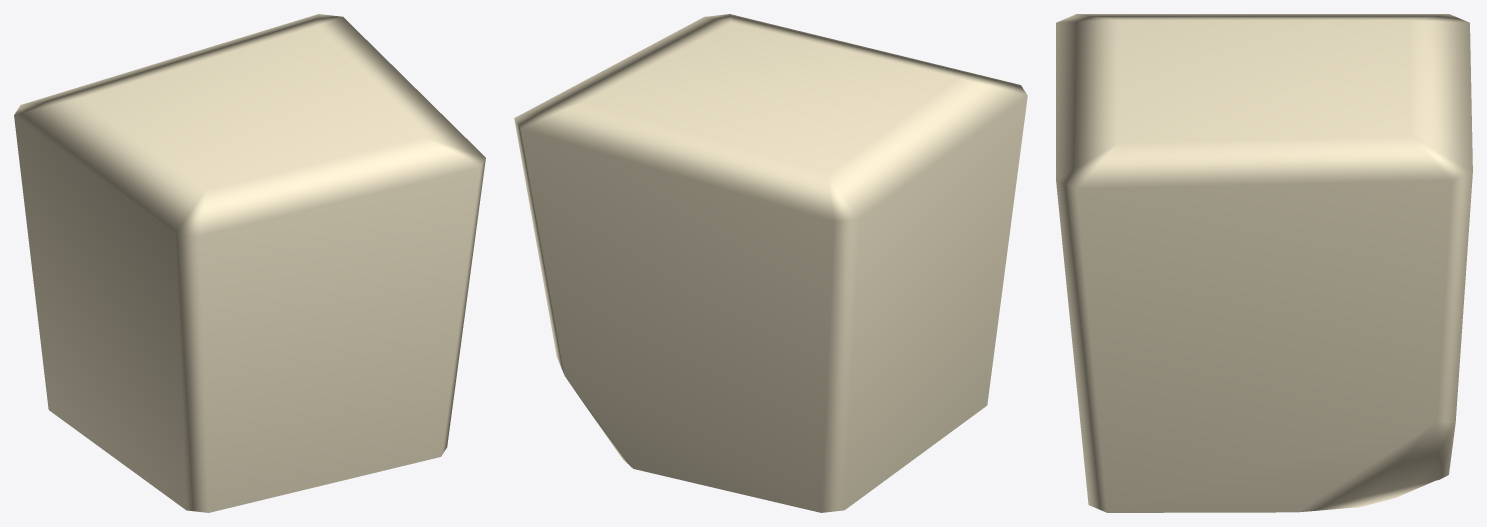
Rendered from Tofu.fbx.
3 views of the same model, side by side, from view 1: azimuth 30°, elevation 25°; view 2: azimuth 150°, elevation 25°; view 3: azimuth 270°, elevation 25° (orthographic). The views are drawn at different scales.
Parts seen in each view (by area): view 1: tofu; view 2: tofu; view 3: tofu.
Part boxes in pixels (x1,y1,x2,y2): tofu: (14, 14, 485, 512); tofu: (514, 14, 1027, 512); tofu: (1056, 14, 1472, 512).
Size of the model in its own units: 76.54 by 75.14 by 72.47.
